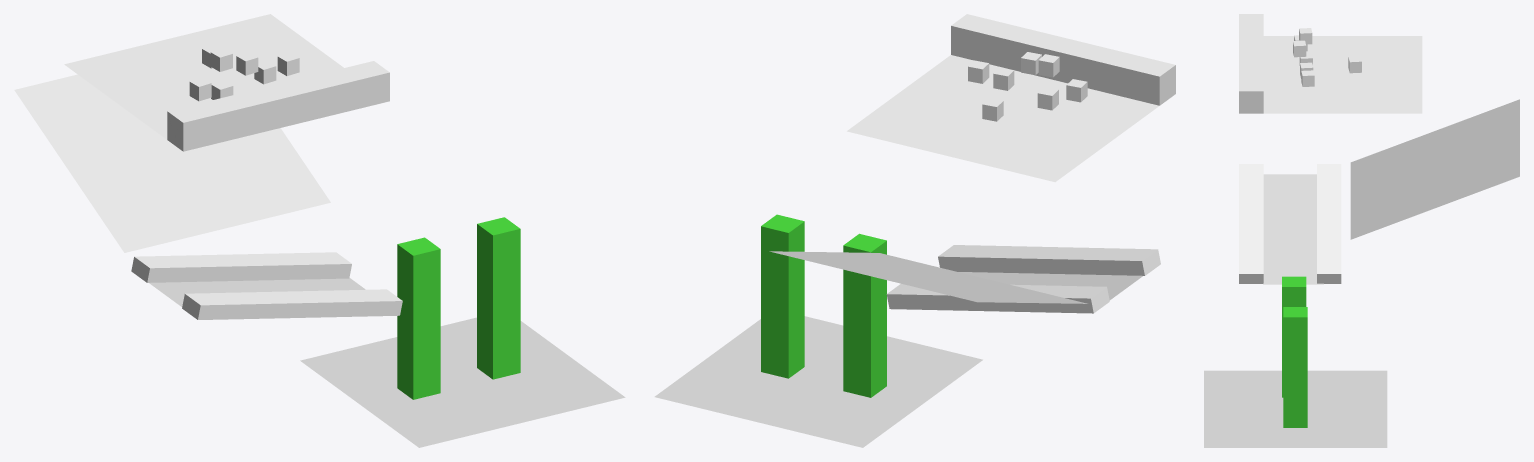
File: lab3.glb
3 views of the same model, side by side, from view 1: azimuth 30°, elevation 25°; view 2: azimuth 150°, elevation 25°; view 3: azimuth 270°, elevation 25° (orthographic). The views are drawn at different scales.
Visible parts, largest first — view 1: Plane.001, Plane.003, Plane, Cuboid, Cube.010, Cube.008, Cube.007, Cube.009, Plane.002; view 2: Plane, Plane.003, Cuboid, Cube.010, Cube.008, Cube.007, Plane.001, Cube.009, Plane.002; view 3: Plane.001, Plane.003, Plane, Plane.002, Cube.010, Cube.007, Cube.009, Cuboid, Cube.008.
Boxes of the visible parts, x1,y1,x2,y2 form: Plane.001: (14,74,330,252); Plane.003: (300,317,625,447); Plane: (64,14,343,139); Cuboid: (167,61,389,151); Cube.010: (477,217,520,379); Cube.008: (397,237,440,399); Cube.007: (182,289,402,319); Cube.009: (131,252,351,282); Plane.002: (149,278,365,306); Plane: (847,55,1159,182); Plane.003: (654,316,982,447); Cuboid: (951,14,1175,105); Cube.010: (761,214,804,378); Cube.008: (843,233,886,397); Cube.007: (938,245,1160,275); Plane.001: (769,251,1087,303); Cube.009: (886,283,1109,313); Plane.002: (958,272,1142,300); Plane.001: (1350,99,1519,239); Plane.003: (1204,370,1387,447); Plane: (1263,36,1422,113); Plane.002: (1263,174,1323,284); Cube.010: (1283,307,1307,427); Cube.007: (1239,164,1263,283); Cube.009: (1317,164,1341,283); Cuboid: (1239,14,1263,113); Cube.008: (1282,276,1306,397).
Size of the model in its own units: 30.47 by 26.25 by 25.86.
